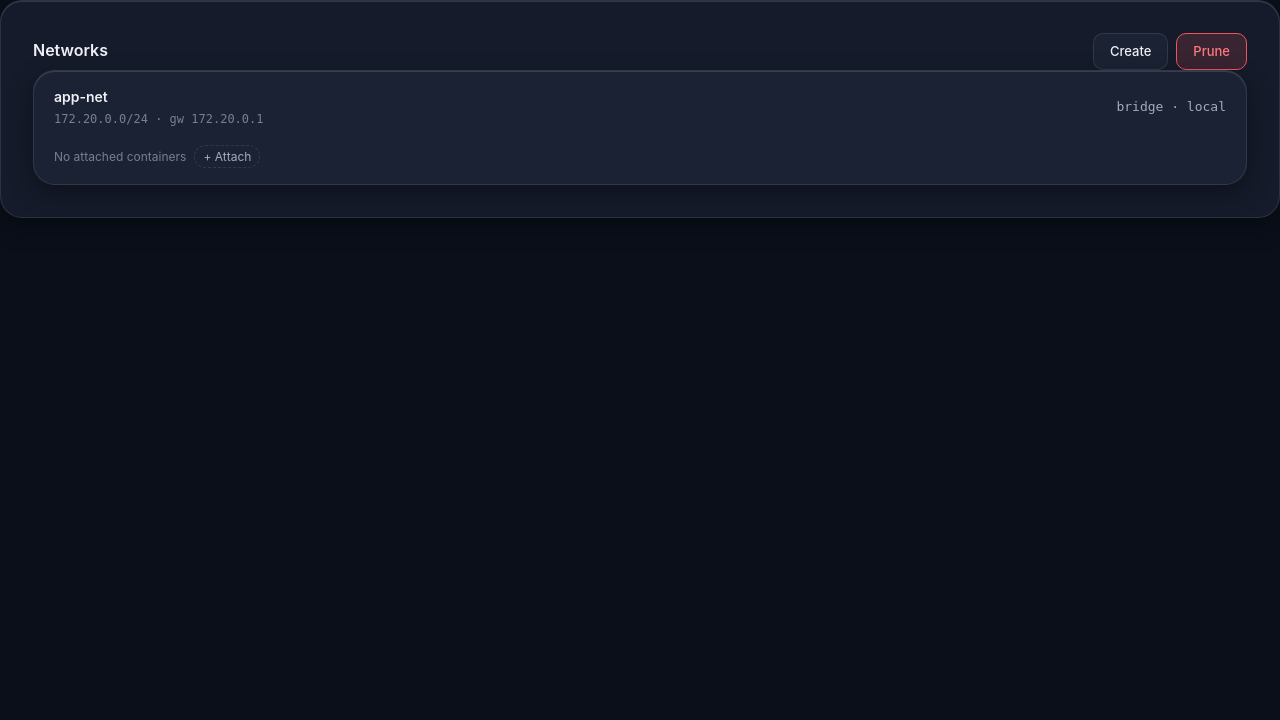
Test: NetworksPanel — inline inspect (plan-docker_management_app/REQ-73) › expands the inspect surface with driver, scope, subnet, gateway and options on selection
The image size is (1280, 720).
Step 1. Click the element with class "ui-card-list__item" → [81, 96], box [54,88,1226,126]
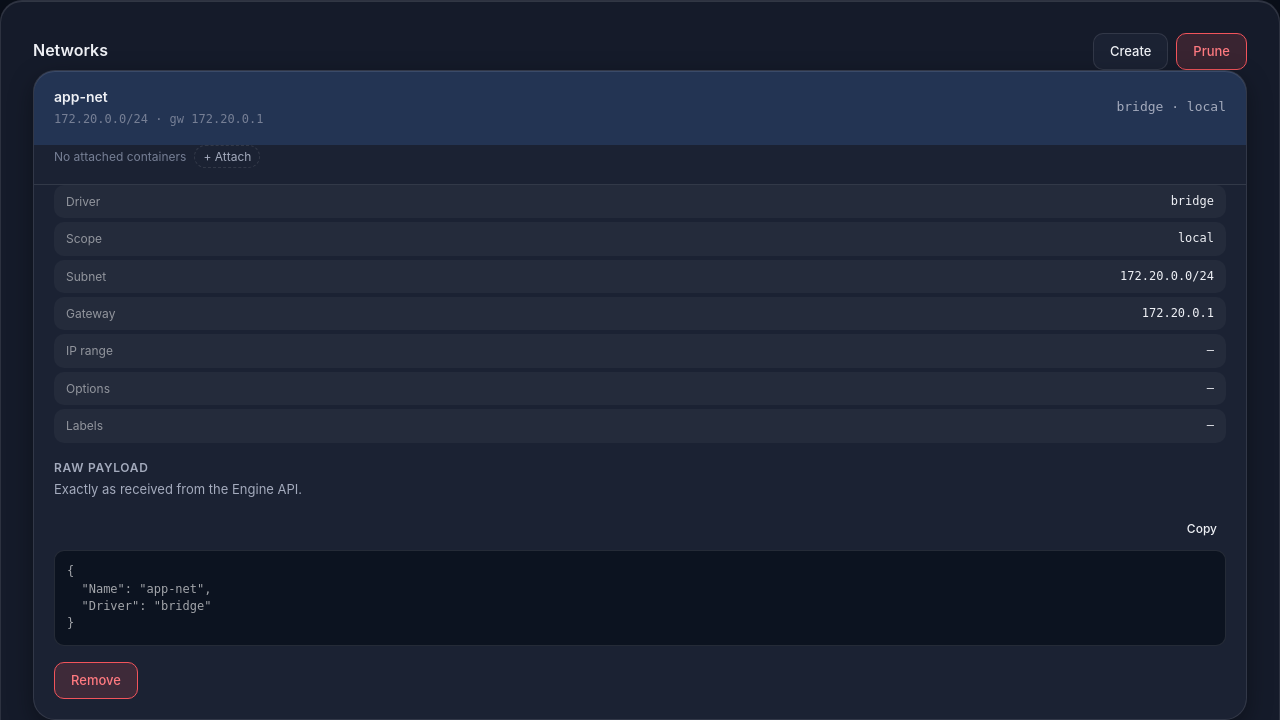
expect the text "Scope" is shown: met, box [66,230,102,248]
expect the text "Subnet" is shown: met, box [66,268,106,285]
expect the text "Gateway" is shown: met, box [66,305,115,322]
